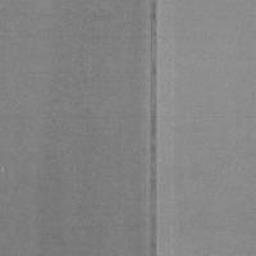Welding line: (147, 0, 160, 256)
